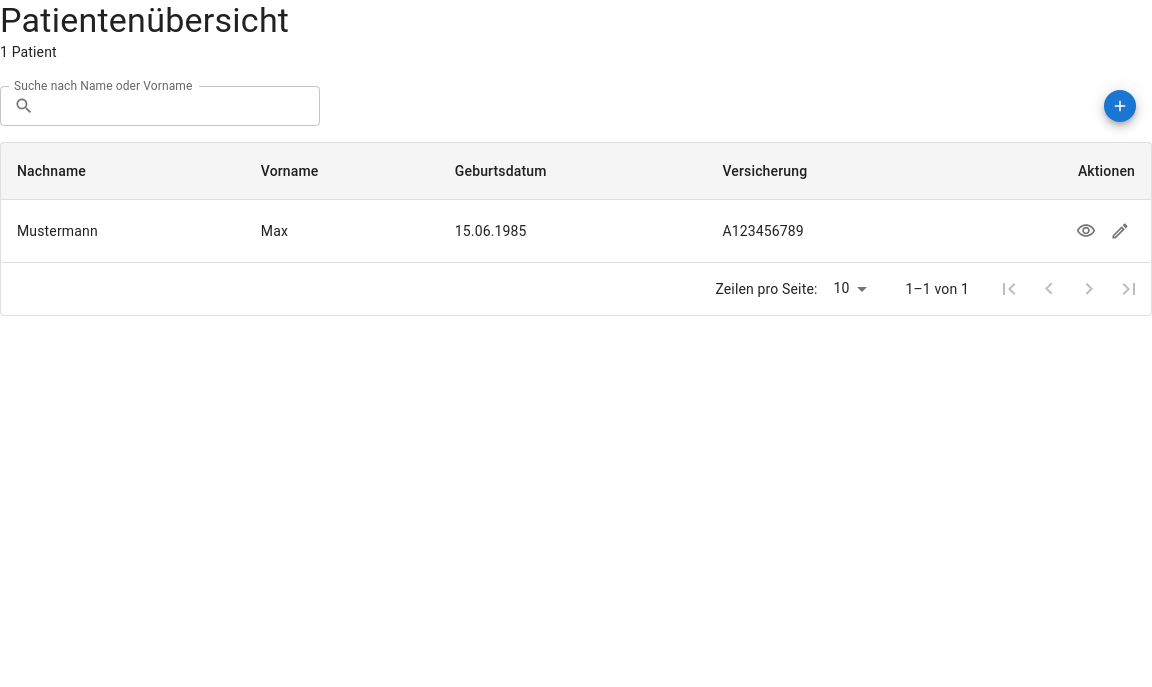
Test: Overview › Bearbeiten › laedt beim Oeffnen die vollen Patientendaten nach und befuellt das Formular
Click the button named "Patient bearbeiten" at (1120, 231), box x1=1105 y1=216 x2=1135 y2=246
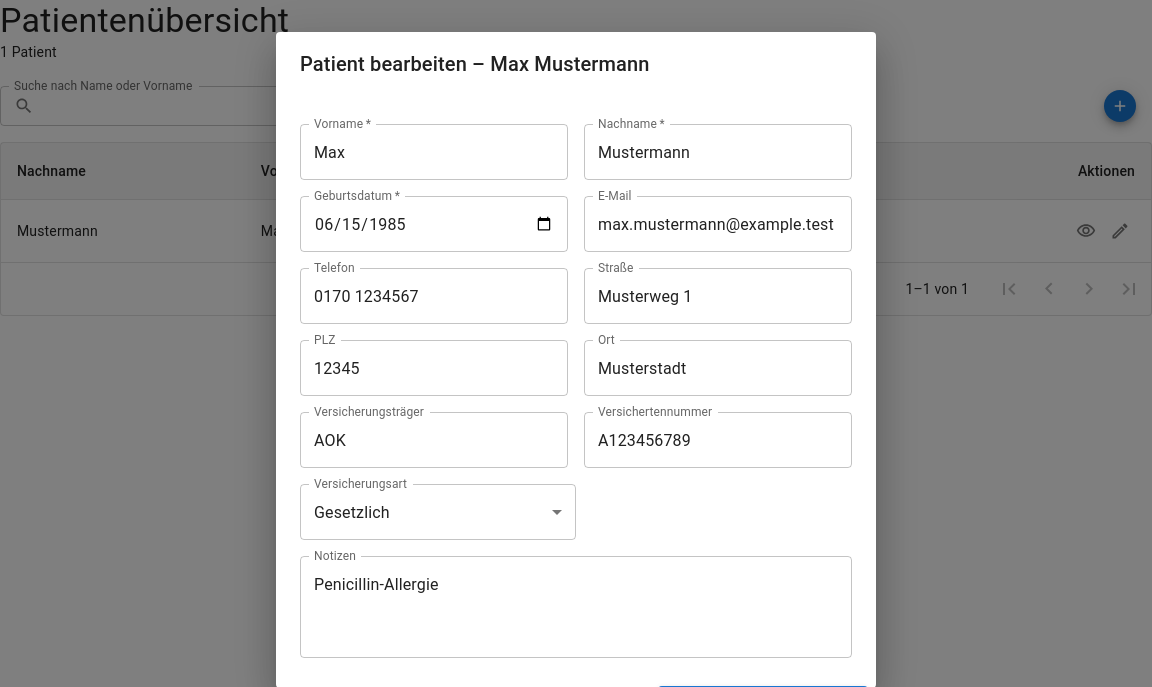
Check: the field showing "max.mustermann@example.test" is shown, box x1=584 y1=196 x2=852 y2=252
Check: the field showing "Musterweg 1" is shown, box x1=584 y1=268 x2=852 y2=324
Check: the text box showing "Penicillin-Allergie" is shown, box x1=314 y1=572 x2=838 y2=642
